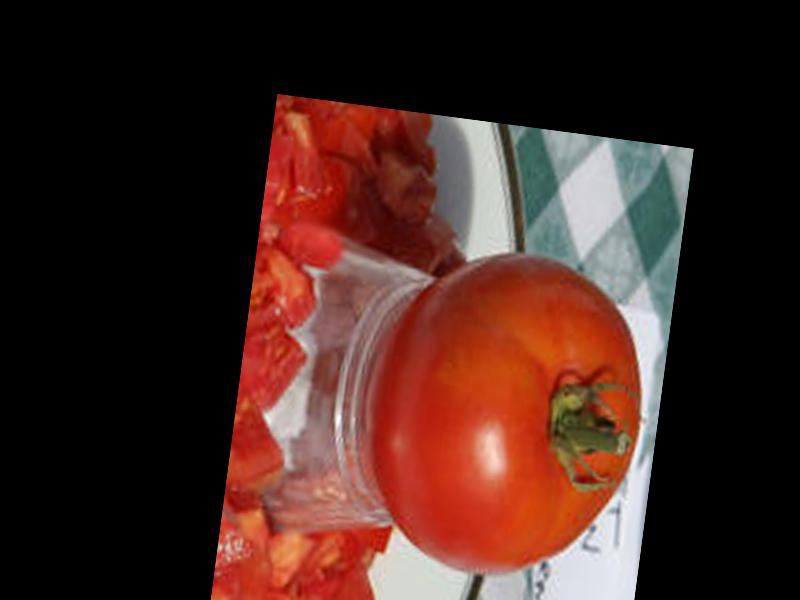Tomato: (353, 235, 662, 595)
